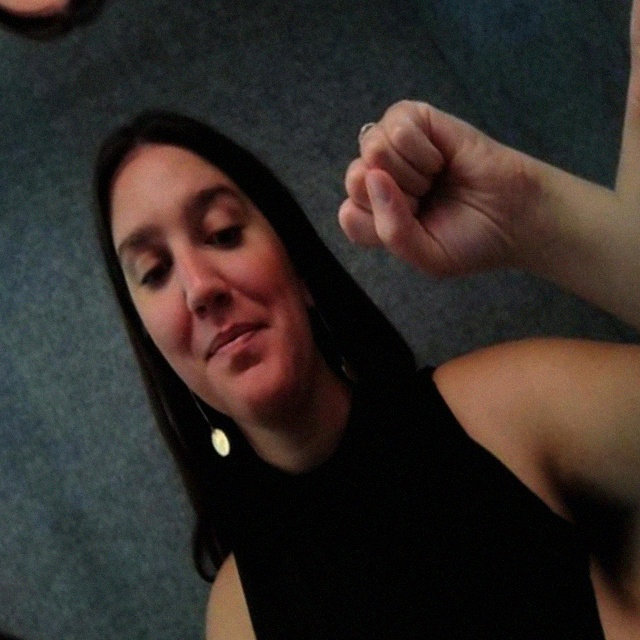Rock: (281, 23, 584, 354)
